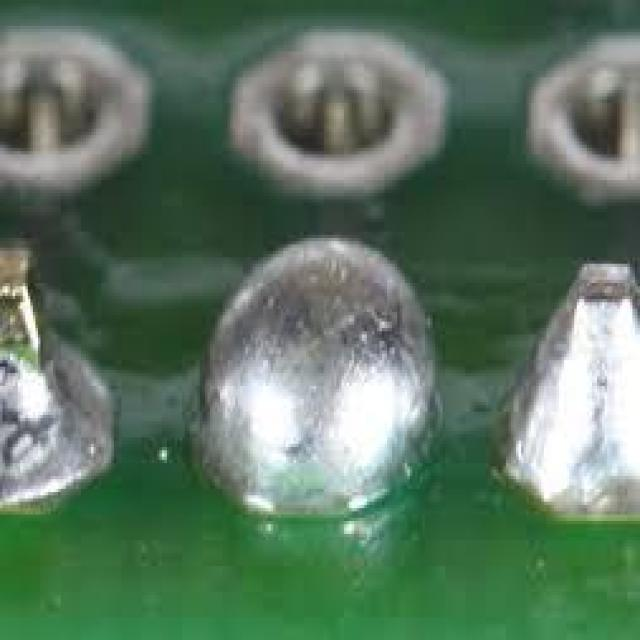redundant: (202, 238, 434, 513)
